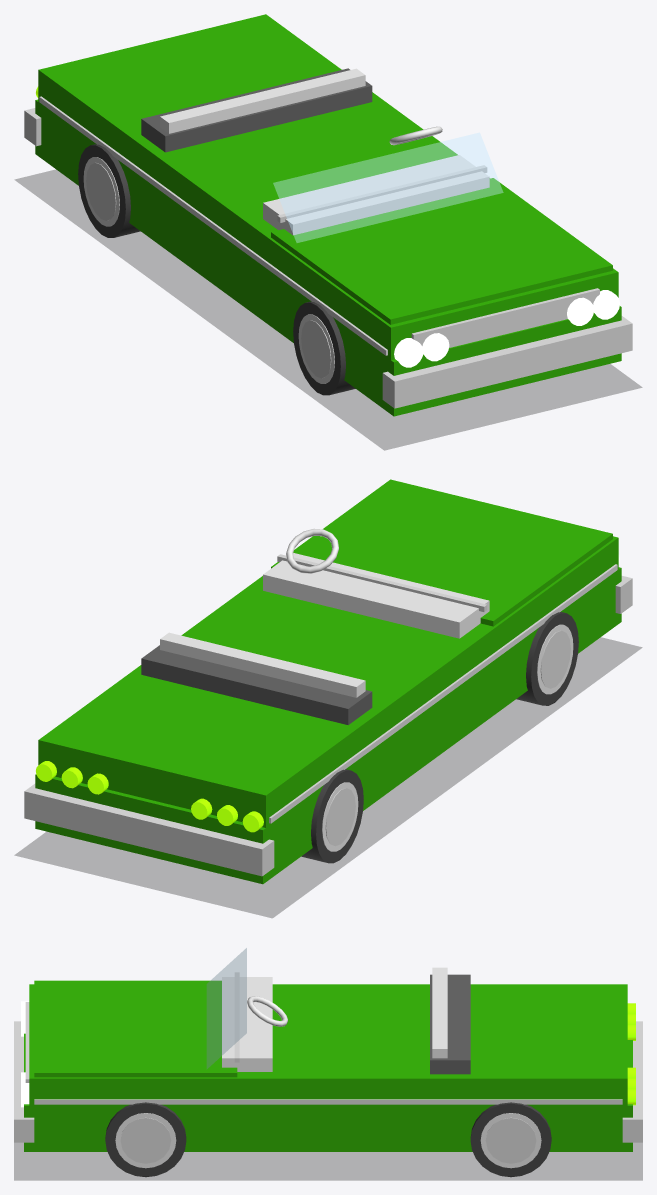
Rendered from impala.gltf.
The picture shows the model from 3 angles, top to bottom: view 1: azimuth 30°, elevation 25°; view 2: azimuth 150°, elevation 25°; view 3: azimuth 270°, elevation 25°; orthographic projection. The views are drawn at different scales.
Size of the model in its own units: 2.5 by 1.63 by 6.2.
